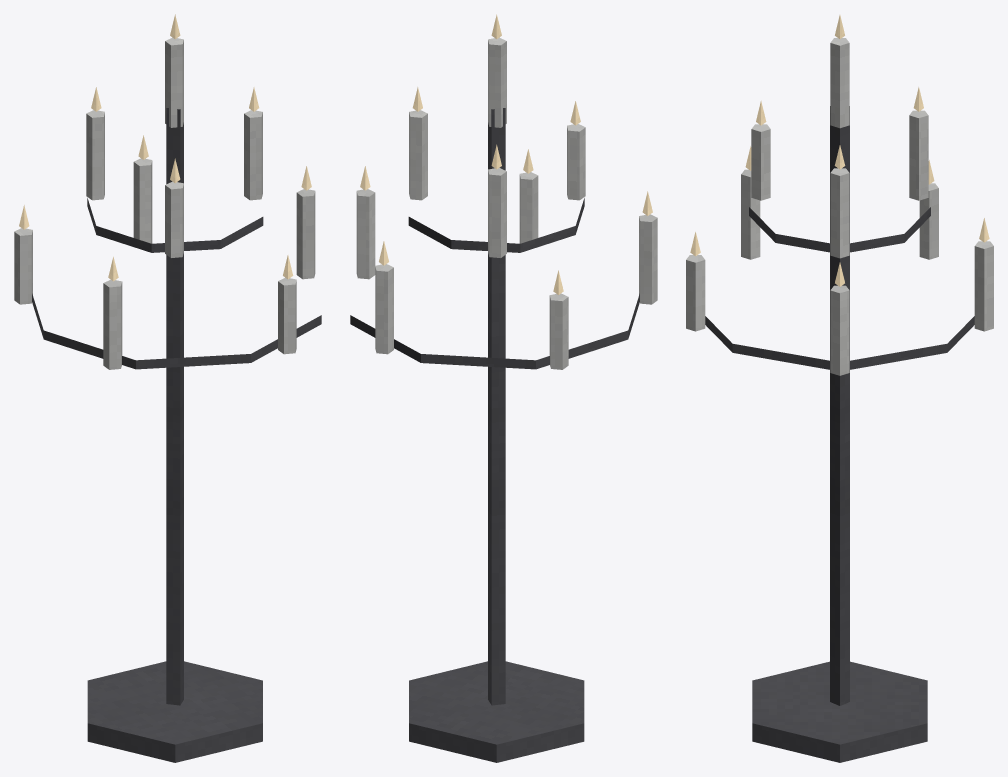
The model's file is int_candle_stand.glb.
3 renders of one model, left to right at view 1: azimuth 30°, elevation 25°; view 2: azimuth 150°, elevation 25°; view 3: azimuth 270°, elevation 25°, orthographic.
Visible parts, largest first — view 1: detail; view 2: detail; view 3: detail.
Boxes of the visible parts, bbox=[...] form: detail: bbox=[14, 14, 321, 762]; detail: bbox=[350, 14, 657, 762]; detail: bbox=[686, 15, 993, 762].
Size of what is drawn, in the model's own units: 0.62 by 1.54 by 0.6087.
Materials: 3 (3 with a texture image).
